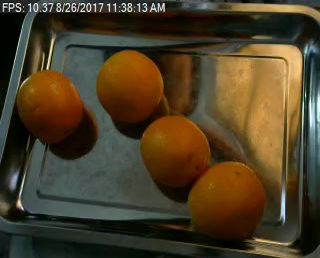Orange: (187, 161, 267, 242), (96, 47, 165, 122), (140, 114, 212, 184), (14, 71, 81, 141)
